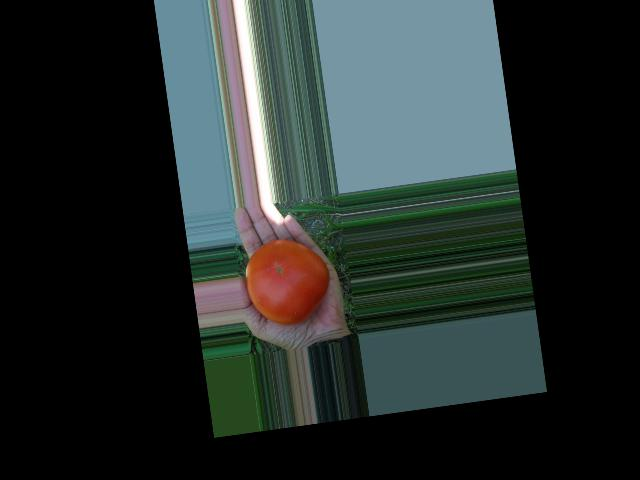tomato: (241, 233, 335, 329)
